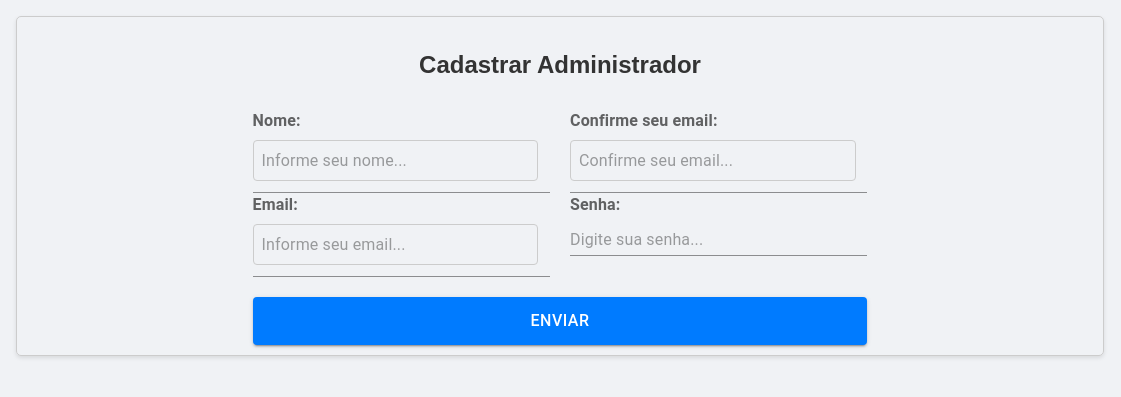
Test: Testes Formulário p/ Cadastro de Admins › Valida regra de preenchimento do campo senha
# Simula preenchimento dos campos
Type "teste@example.com" into the field with placeholder "Informe seu email..." at (395, 244), box [253, 224, 538, 265]
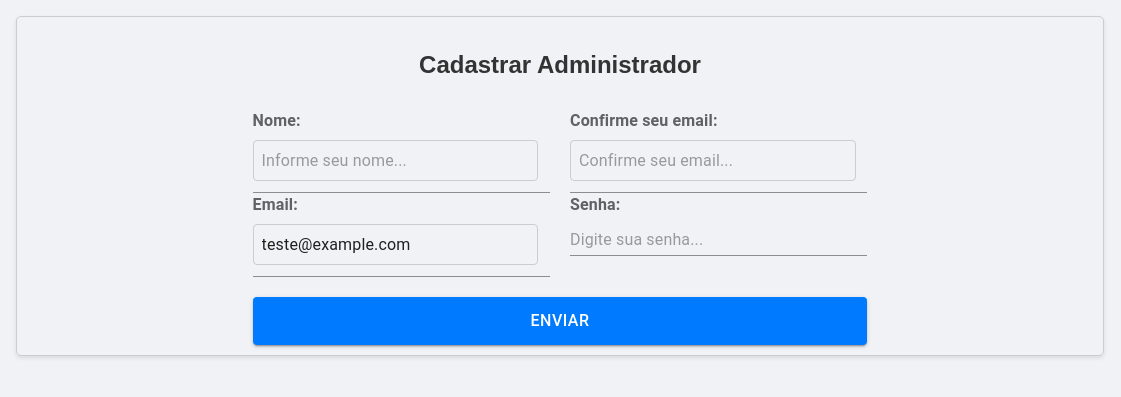
Type "teste@example.com" into the field with placeholder "Confirme seu email..." at (713, 160), box [570, 140, 856, 181]
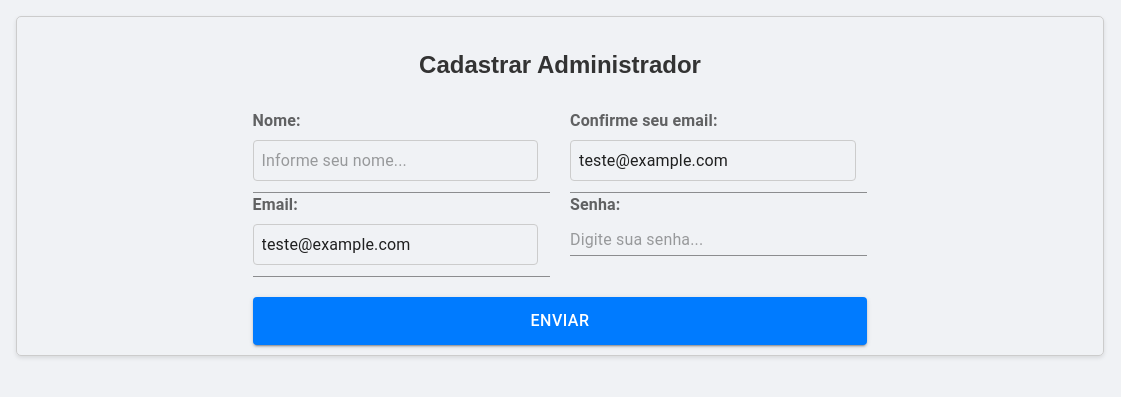
Type "Luana" into the field with placeholder "Informe seu nome..." at (395, 160), box [253, 140, 538, 181]
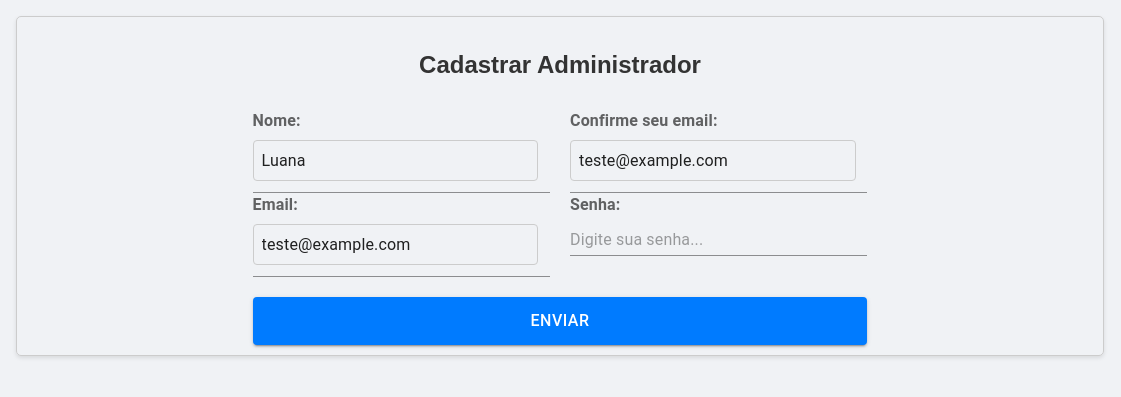
Type "senha123" into the password field with placeholder "Digite sua senha..." at (719, 240), box [570, 224, 867, 256]
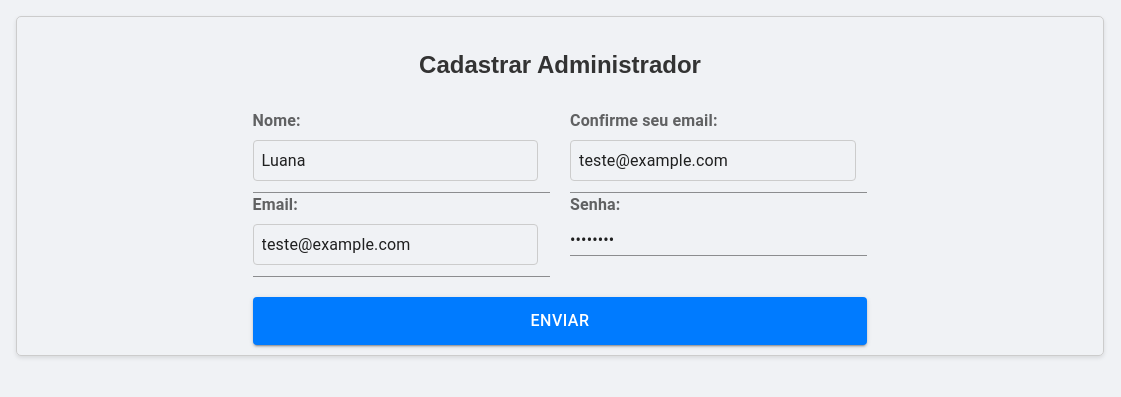
# Simula ação no botão de enviar
Click the button "Enviar" at (560, 321), box [253, 297, 867, 345]
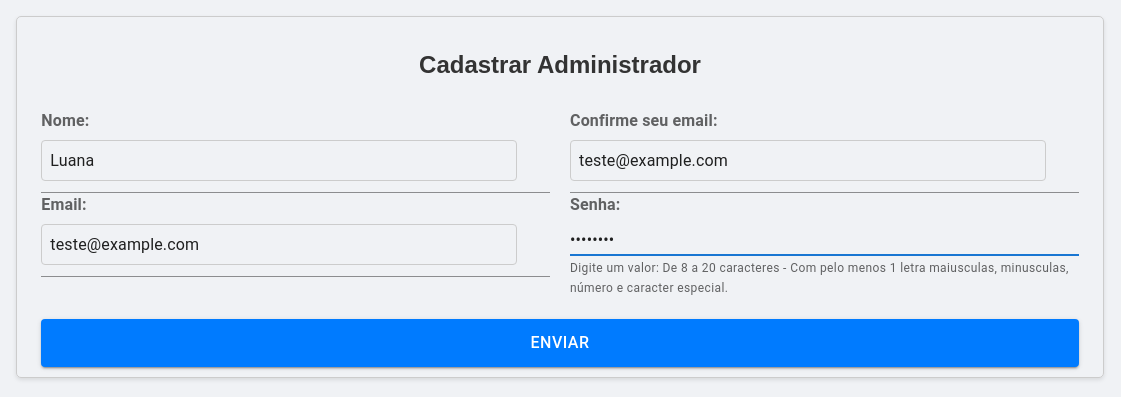
expect the text "Digite um valor: De 8 a 20 caracteres - Com pelo menos 1 letra maiusculas, minusculas, número e caracter especial." is shown: met, box [570, 261, 1069, 295]
